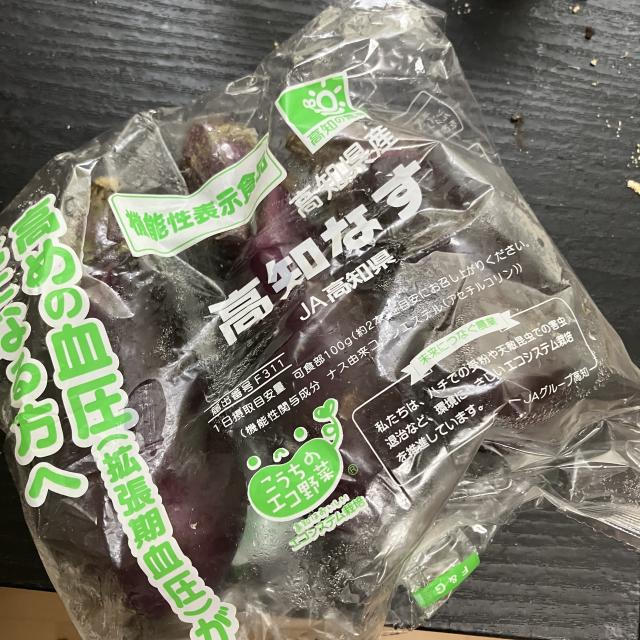eggplant: (177, 116, 421, 554), (282, 115, 578, 428), (71, 175, 251, 622)
